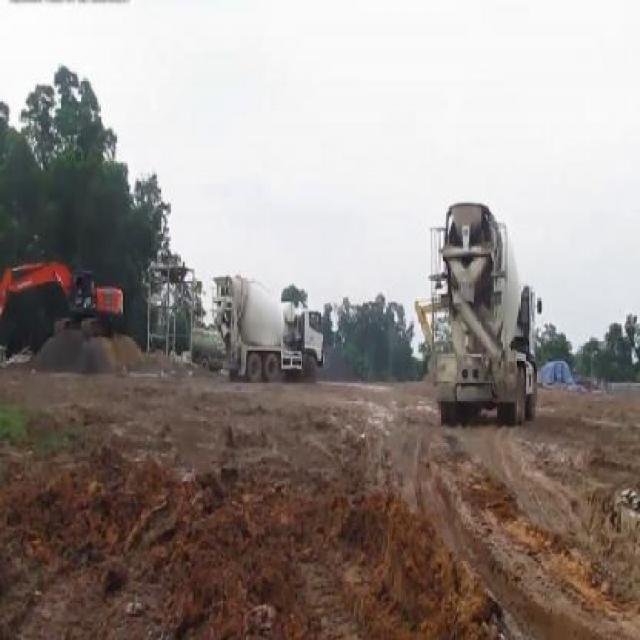Excavator: (0, 260, 125, 335)
